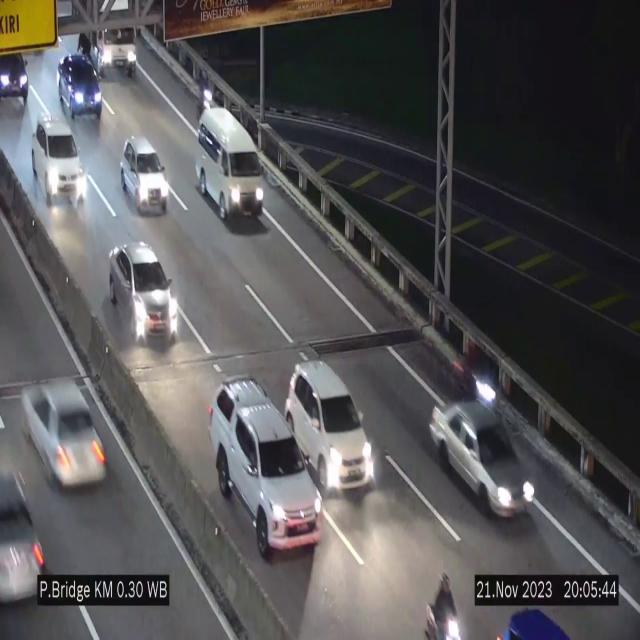Car: (212, 378, 321, 556), (427, 396, 537, 523), (19, 364, 115, 498), (285, 360, 375, 494), (0, 457, 56, 626), (105, 235, 181, 351), (196, 108, 264, 223), (27, 115, 89, 216), (121, 136, 169, 213), (58, 51, 104, 122), (0, 42, 38, 108)
Motorcycle: (454, 337, 498, 417), (424, 570, 460, 640), (191, 65, 212, 121)
Truck: (78, 0, 144, 79)
